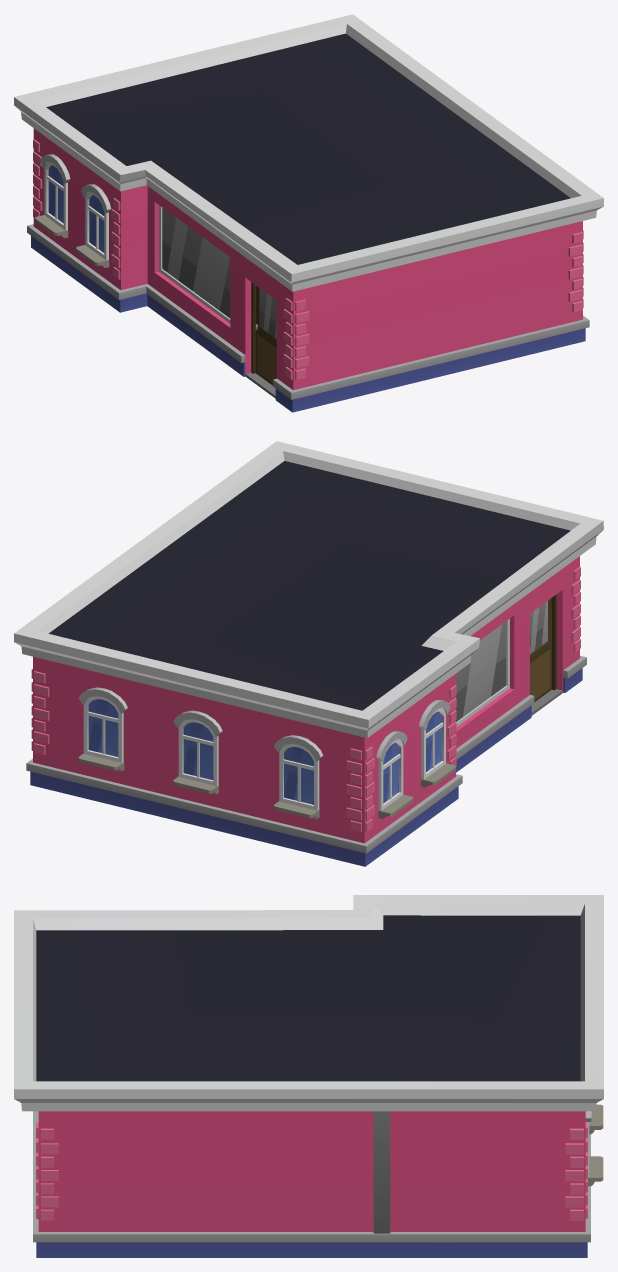
Rendered from Building_1_1_C.glb.
The picture shows the model from 3 angles, top to bottom: view 1: azimuth 30°, elevation 25°; view 2: azimuth 150°, elevation 25°; view 3: azimuth 270°, elevation 25°; orthographic projection. The views are drawn at different scales.
Visible parts, largest first — view 1: Building_1_1_C; view 2: Building_1_1_C; view 3: Building_1_1_C.
Boxes of the visible parts, <box> form: Building_1_1_C: <box>14,14,603,412</box>; Building_1_1_C: <box>14,441,603,866</box>; Building_1_1_C: <box>14,895,603,1257</box>.
Bounding box in the file's own units: 8.22 × 3.41 × 10.51.
3 materials, 3 textured.
